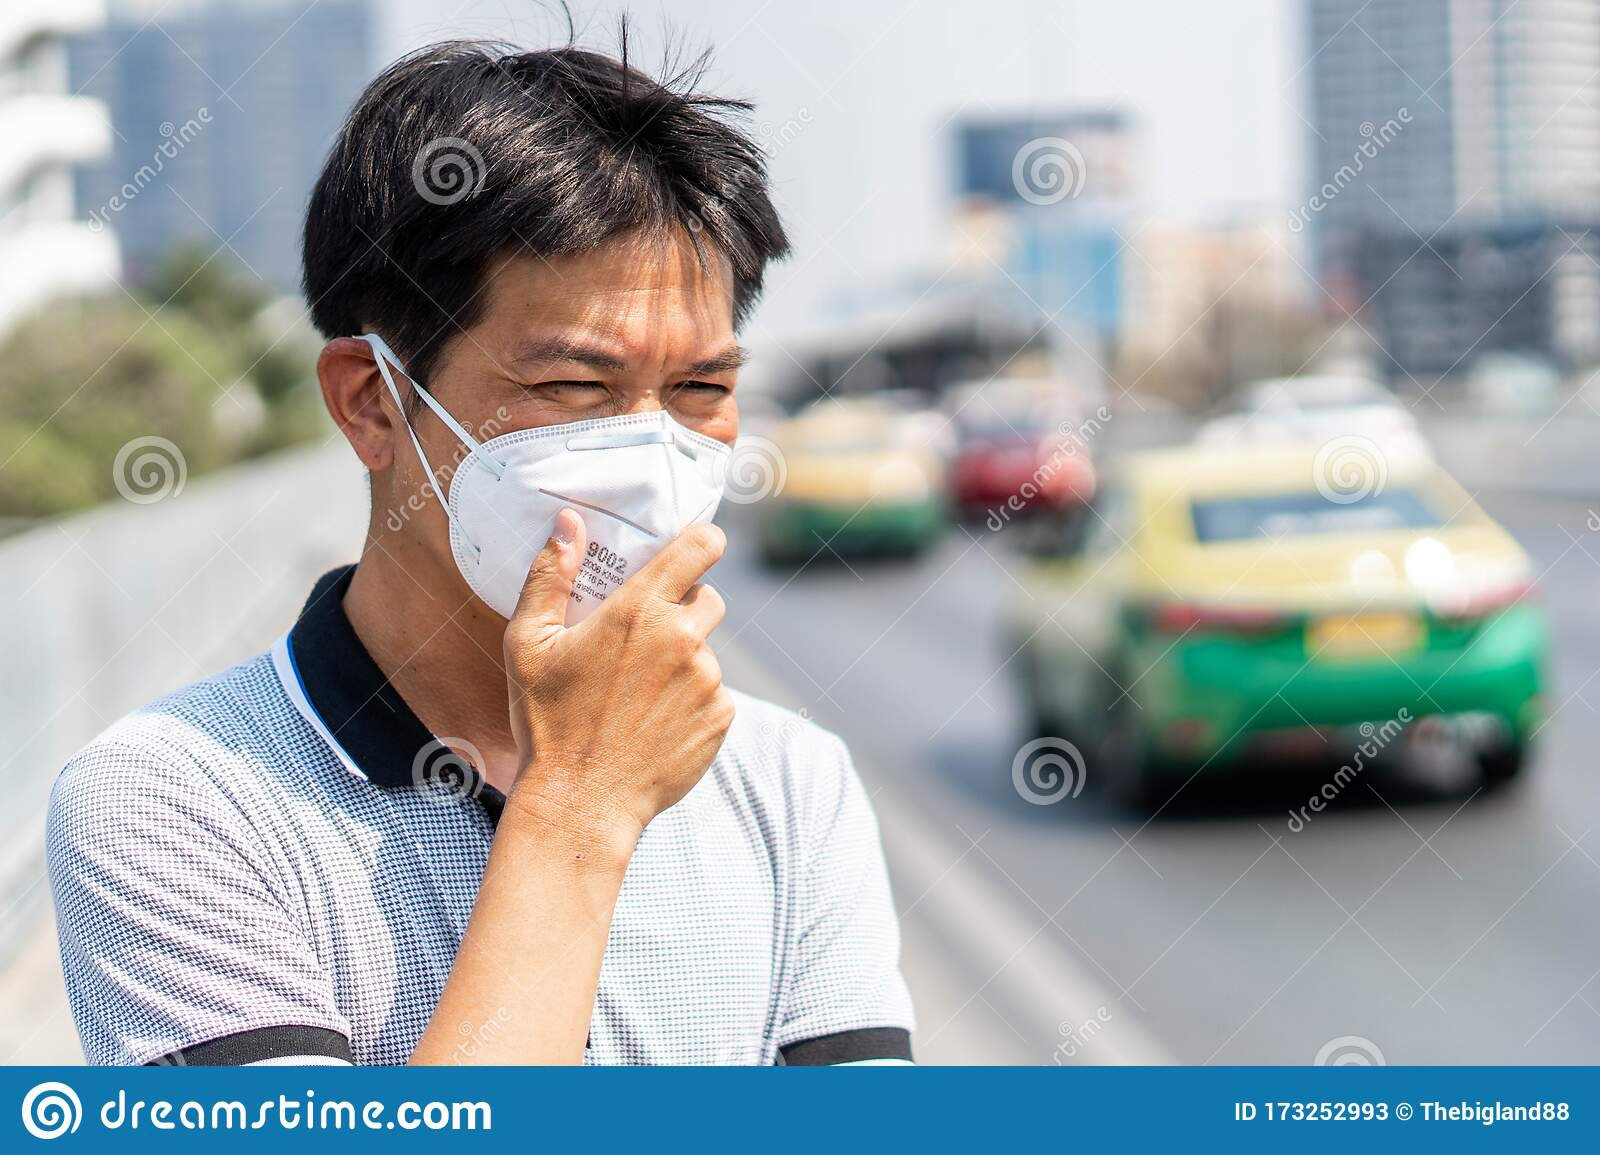mask: (273, 29, 868, 659)
